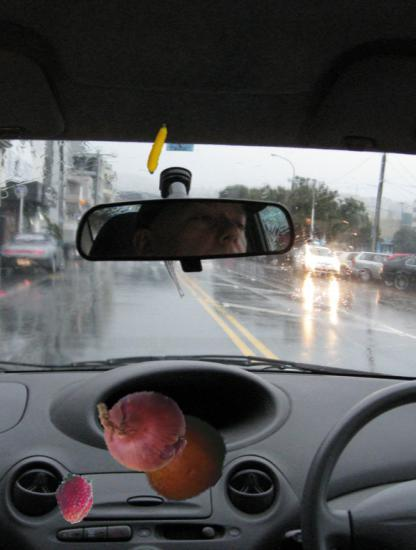Banana: (130, 121, 185, 176)
Onion: (91, 380, 191, 480)
Pear: (99, 380, 230, 511)
Strawberry: (51, 472, 102, 523)
